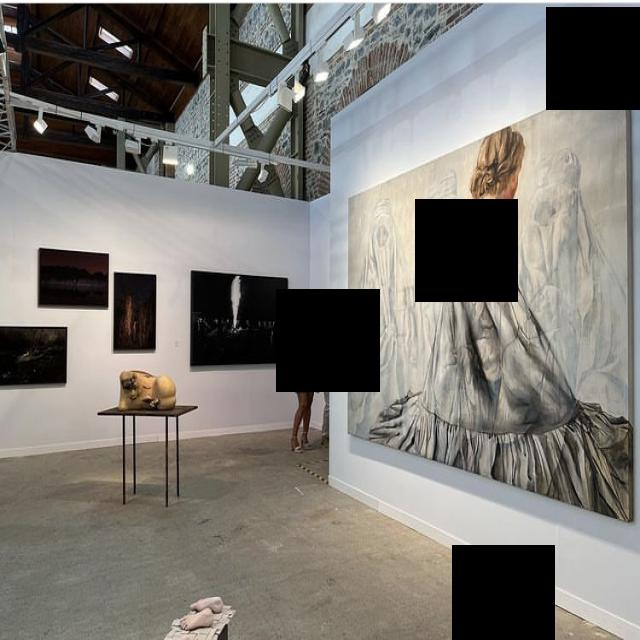Tablo: (346, 73, 629, 523), (188, 268, 289, 367), (0, 321, 69, 389), (35, 247, 110, 309), (112, 270, 157, 353)
